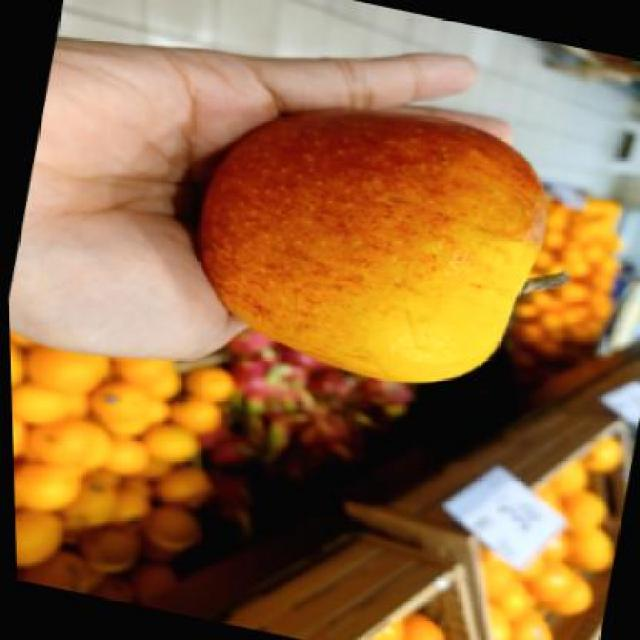Fresh Apple: (178, 108, 545, 386)
